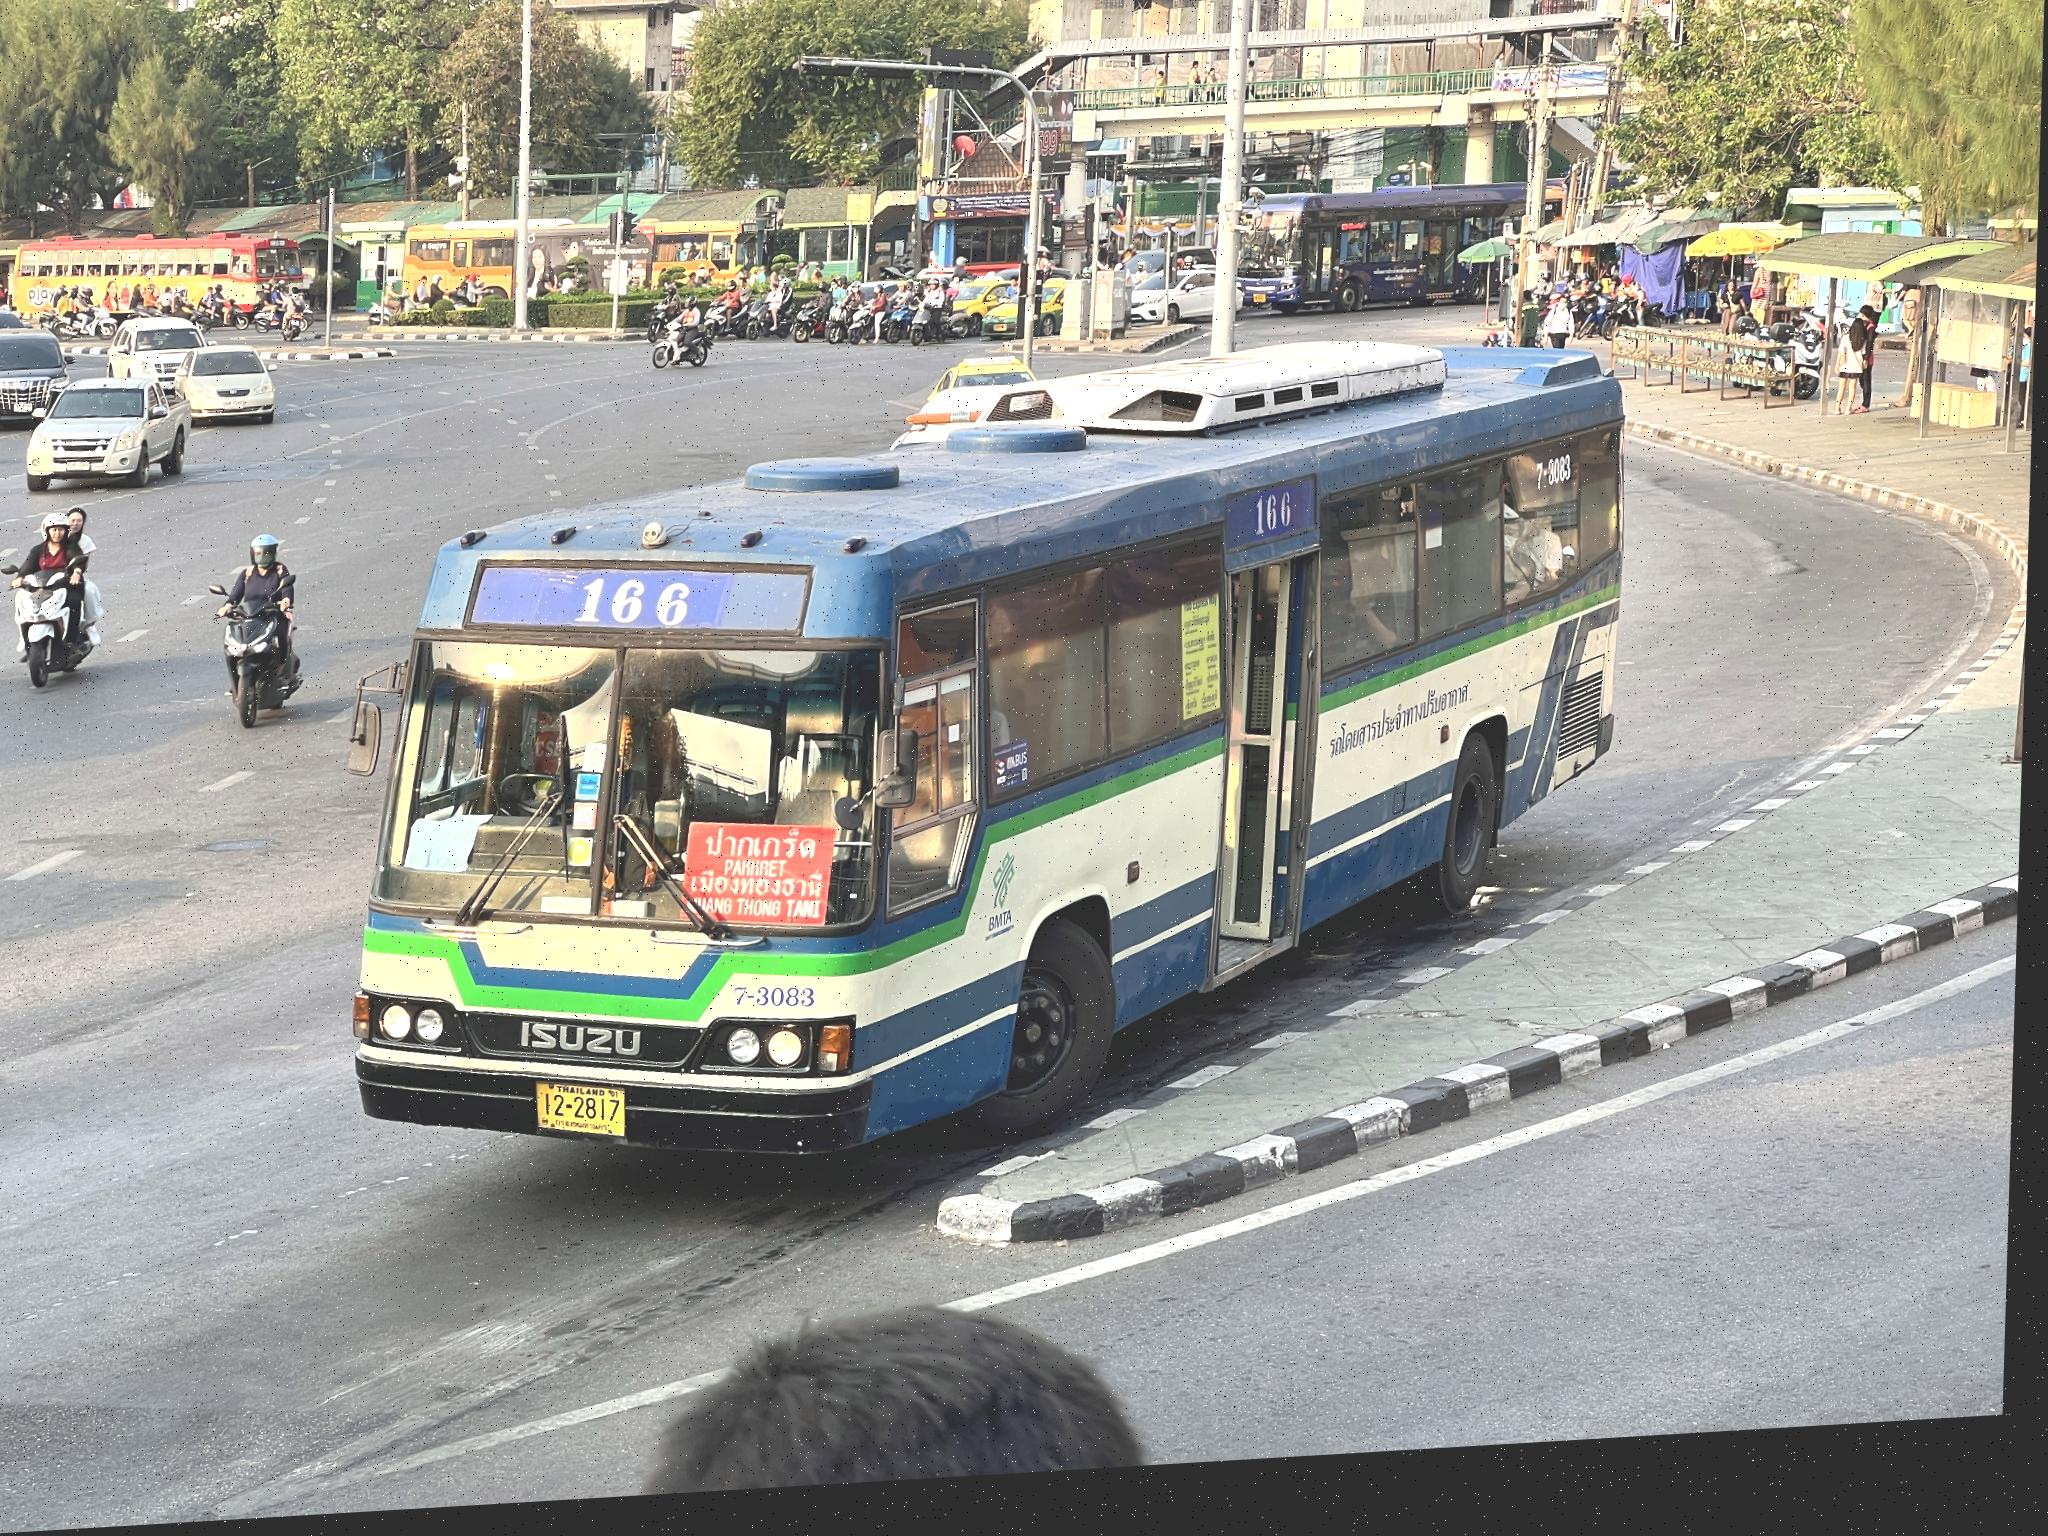BMTA-bus: (355, 361, 1634, 1176)
Bus Line Number: (568, 565, 718, 649)
Bus Side Number: (731, 979, 830, 1029)
Destination Sign: (679, 818, 843, 944)
